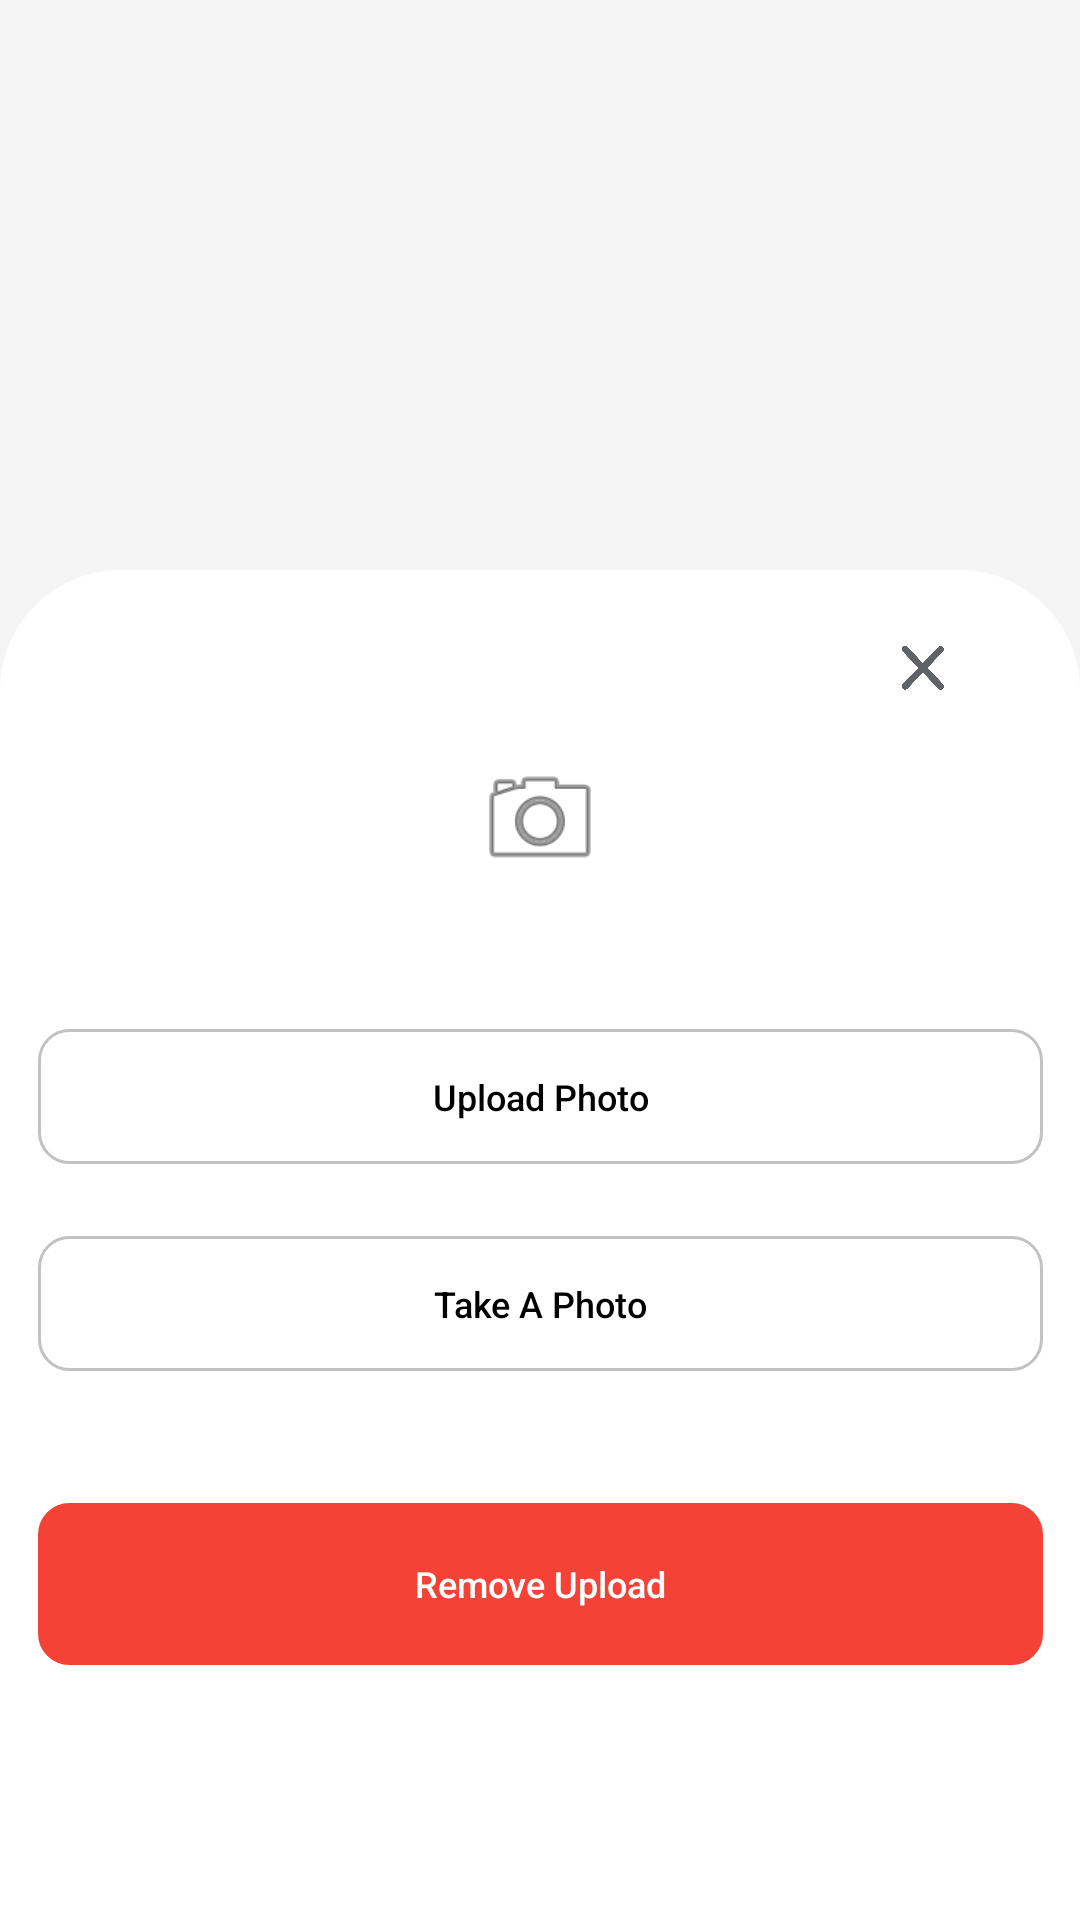

Screen size 1080×1920. Icon name, then its box in pixels as {"x1": x1, "y1": y1, "x2": x2, "y2": y2}:
camera: {"x1": 489, "y1": 776, "x2": 591, "y2": 858}
close: {"x1": 902, "y1": 646, "x2": 944, "y2": 690}
